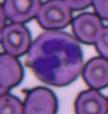N: (30, 31, 82, 86)
